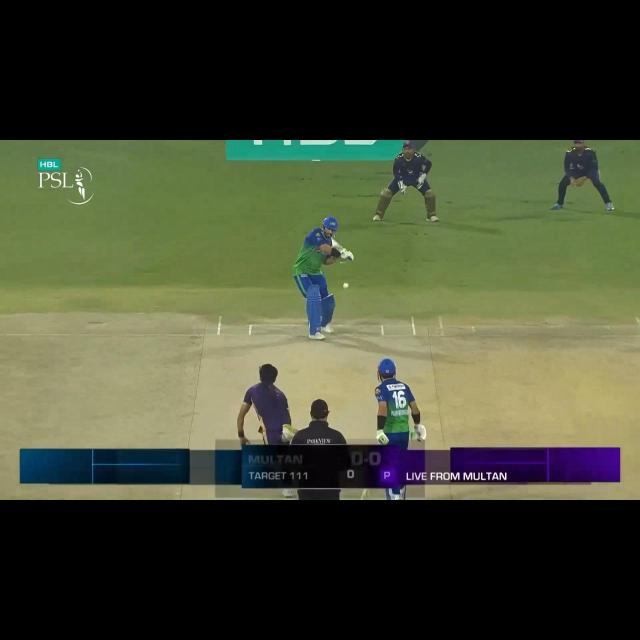bat: (329, 238, 340, 249)
